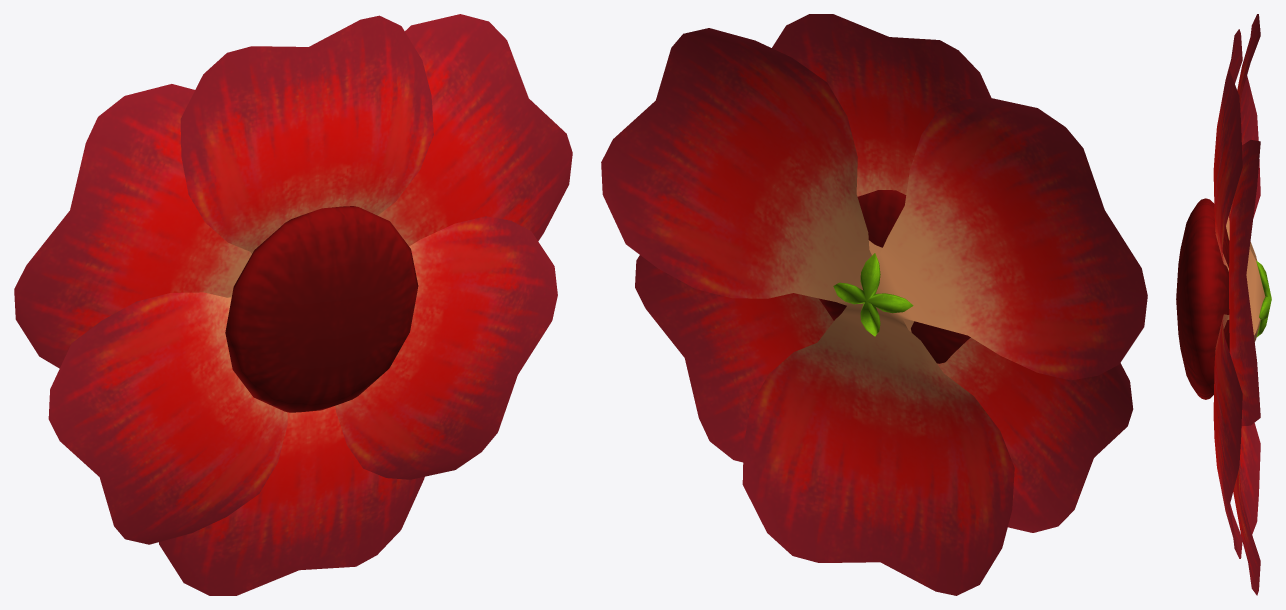
Rendered from poppy.fbx.
The picture shows the model from 3 angles, left to right: view 1: azimuth 30°, elevation 25°; view 2: azimuth 150°, elevation 25°; view 3: azimuth 270°, elevation 25°; orthographic projection. The views are drawn at different scales.
Visible parts, largest first — view 1: poppy.petal, poppy.petal.001, poppy.face; view 2: poppy.petal.001, poppy.petal, poppy.face, poppy.head; view 3: poppy.petal.001, poppy.petal, poppy.face, poppy.head.
Boxes of the visible parts, box(x1,y1,x2,y2) form: poppy.petal: box(48, 15, 557, 544); poppy.petal.001: box(14, 14, 572, 595); poppy.face: box(225, 206, 418, 412); poppy.petal.001: box(601, 28, 1147, 595); poppy.petal: box(635, 14, 1133, 532); poppy.face: box(819, 190, 970, 363); poppy.head: box(833, 253, 913, 336); poppy.petal.001: box(1229, 14, 1265, 595); poppy.petal: box(1213, 29, 1242, 558); poppy.face: box(1176, 198, 1229, 399); poppy.head: box(1256, 260, 1271, 336).
Size of the model in its own units: 223 by 212 by 36.53.
